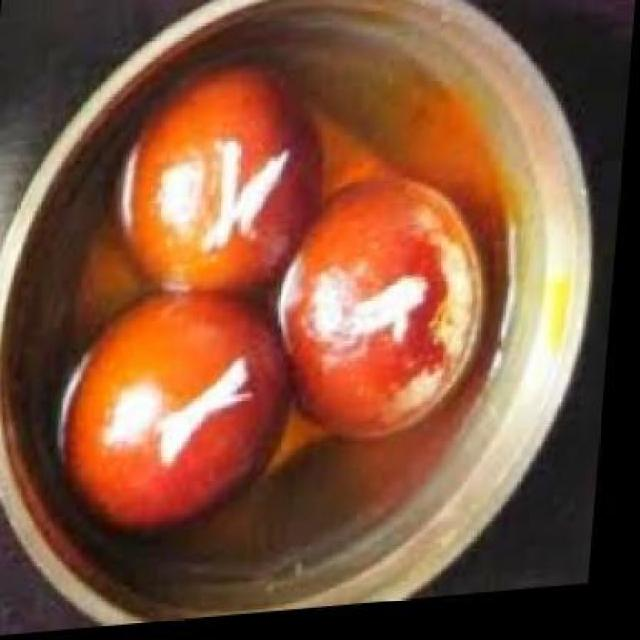gulab_jamun: (57, 284, 303, 544), (272, 177, 496, 454), (118, 61, 336, 308)
